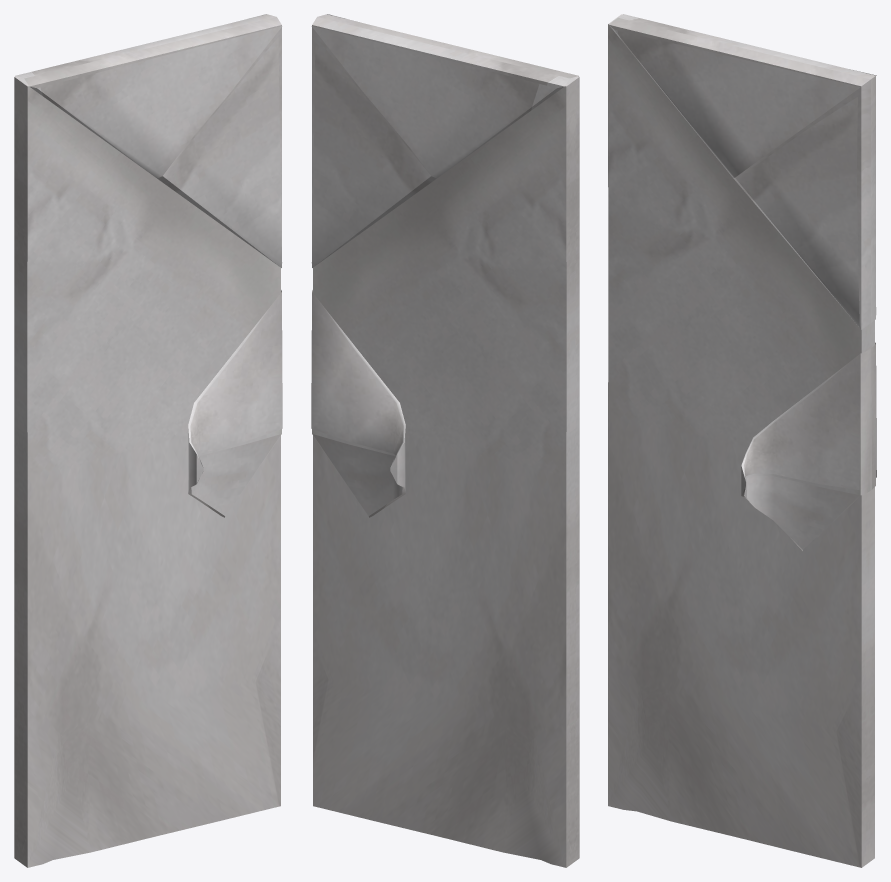
The model's file is Puerta.FBX.
3 views of the same model, side by side, from view 1: azimuth 30°, elevation 25°; view 2: azimuth 150°, elevation 25°; view 3: azimuth 330°, elevation 25° (orthographic).
Visible parts, largest first — view 1: Puerta Sola006, Pestana2; view 2: Puerta Sola006, Pestana1; view 3: Puerta Sola006, Pestana2, Pestana1.
Boxes of the visible parts, x1=… form: Puerta Sola006: x1=14, y1=14, x2=282, y2=867; Pestana2: x1=188, y1=290, x2=282, y2=517; Puerta Sola006: x1=311, y1=14, x2=579, y2=867; Pestana1: x1=311, y1=290, x2=405, y2=517; Puerta Sola006: x1=608, y1=14, x2=876, y2=867; Pestana2: x1=741, y1=349, x2=870, y2=550; Pestana1: x1=871, y1=344, x2=876, y2=489.
Size of the model in its own units: 110 by 322 by 38.46.
